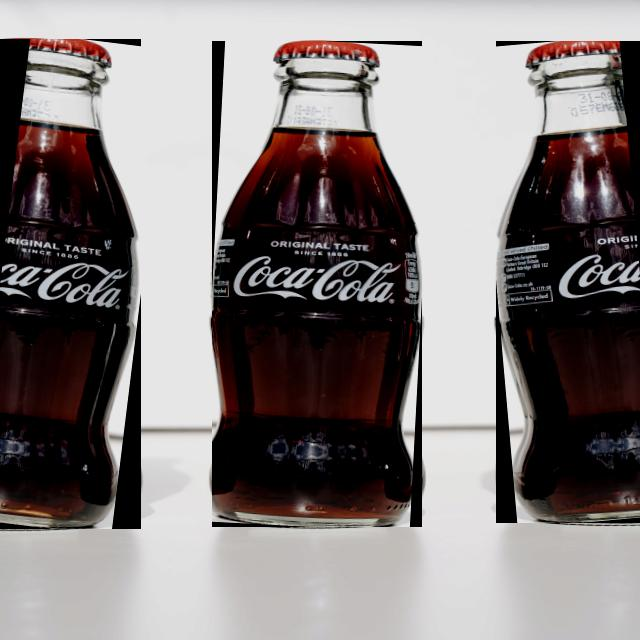Bottle: (212, 41, 422, 526), (0, 39, 140, 529), (497, 42, 639, 523)
